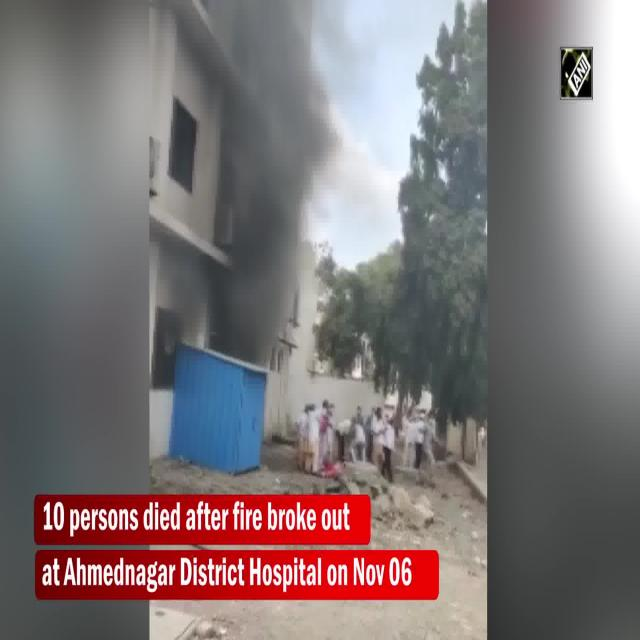smoke: (245, 38, 301, 331)
